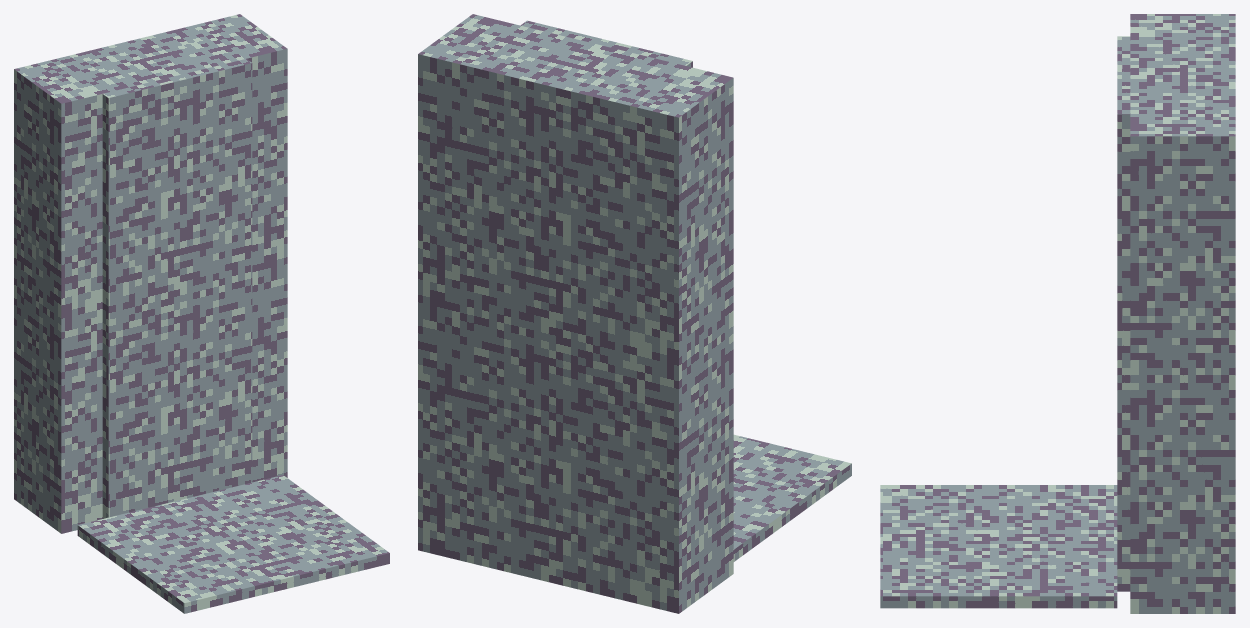
Rendered from a84_cascata_para_o_vazio.glb.
3 views of the same model, side by side, from view 1: azimuth 30°, elevation 25°; view 2: azimuth 150°, elevation 25°; view 3: azimuth 270°, elevation 25° (orthographic). The views are drawn at different scales.
Visible parts, largest first — view 1: a84_cascata_para_o_vazio; view 2: a84_cascata_para_o_vazio; view 3: a84_cascata_para_o_vazio.
Part boxes in pixels (box(x1,y1,x2,y2)): a84_cascata_para_o_vazio: box(14, 14, 389, 613); a84_cascata_para_o_vazio: box(418, 14, 851, 613); a84_cascata_para_o_vazio: box(880, 14, 1235, 613).
Size of the model in its own units: 2.2 by 4 by 2.7.
1 material, 1 textured.
